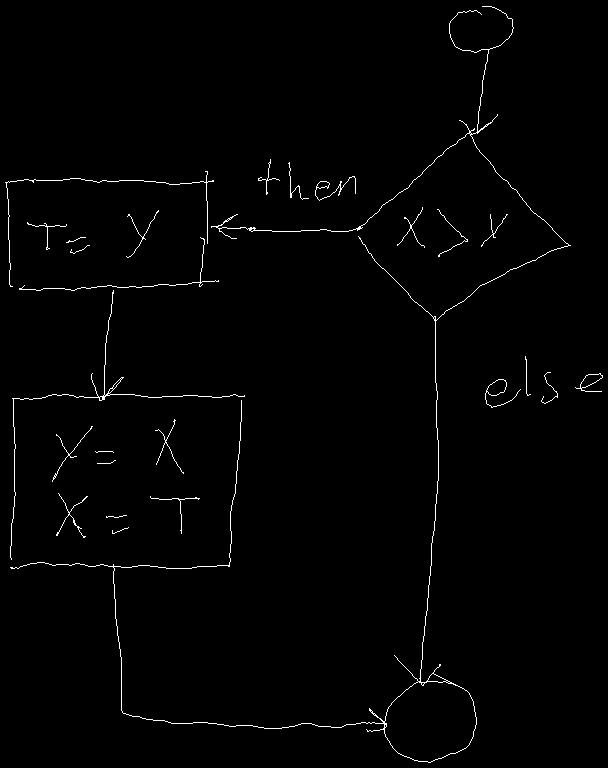arrow: (113, 564, 386, 731), (394, 316, 440, 685), (211, 214, 360, 238), (91, 290, 123, 400), (459, 49, 497, 134)
connection: (384, 673, 476, 762), (449, 6, 513, 52)
decision: (357, 128, 570, 320)
process: (10, 394, 244, 568), (5, 171, 218, 290)
text: (52, 419, 199, 537), (27, 210, 158, 257), (485, 356, 602, 407), (397, 207, 507, 256), (258, 159, 355, 200)
